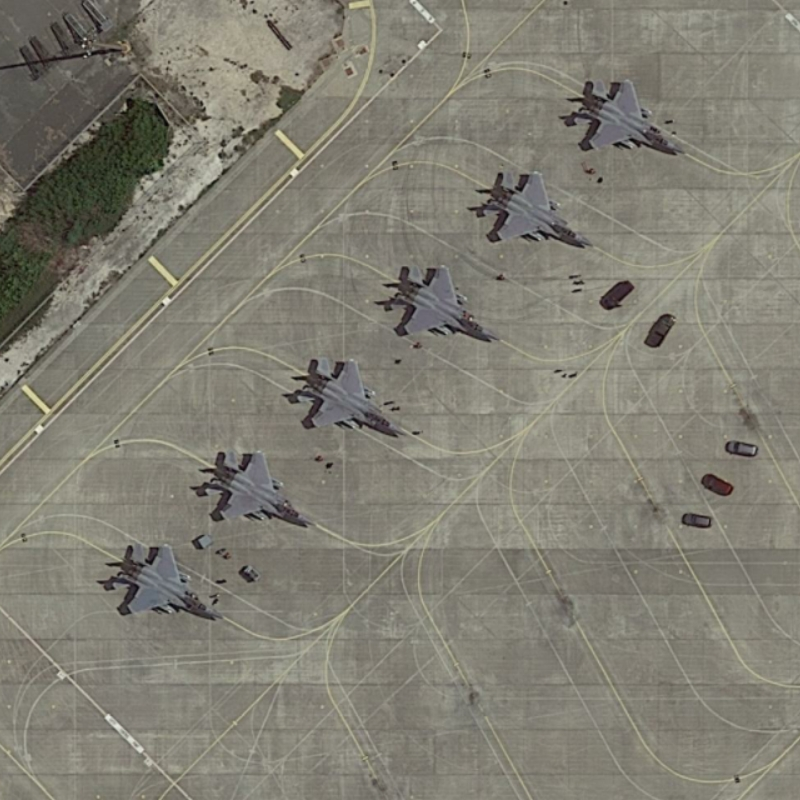A13: (290, 351, 414, 444), (106, 535, 229, 628), (198, 446, 323, 535), (474, 166, 600, 254), (382, 259, 504, 349), (570, 71, 686, 162)
